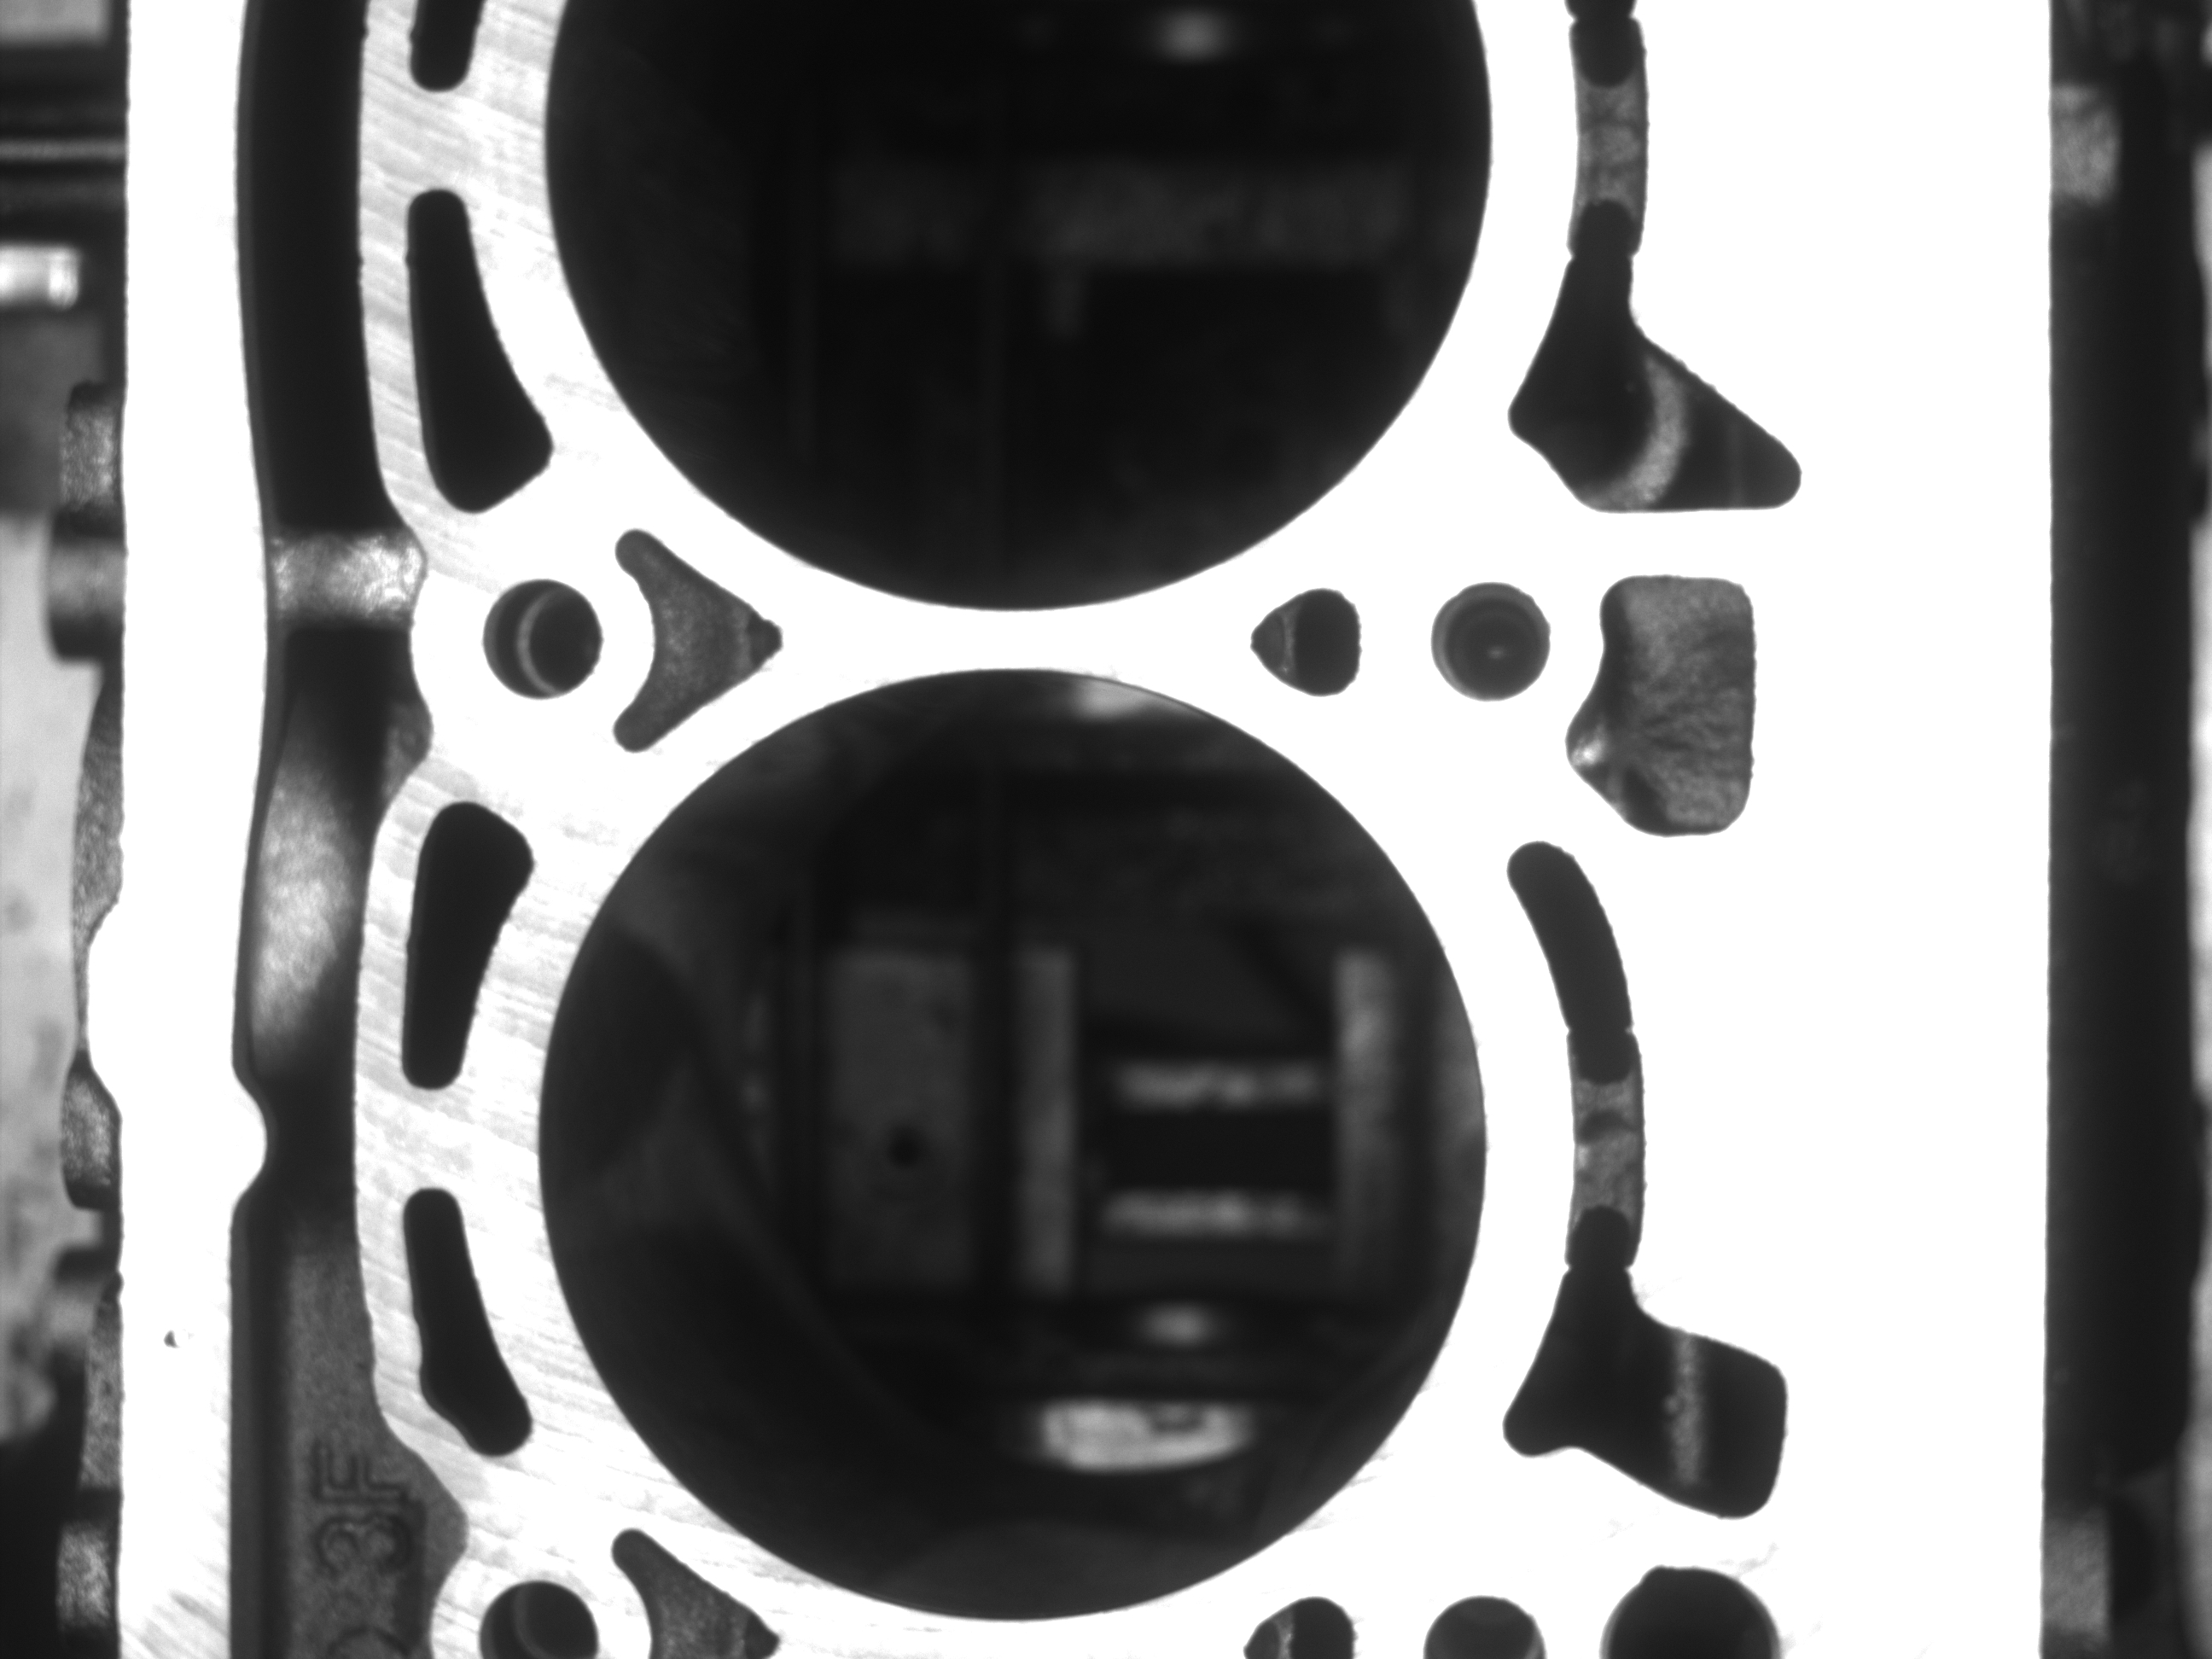shrinkage: (150, 1316, 193, 1368)
